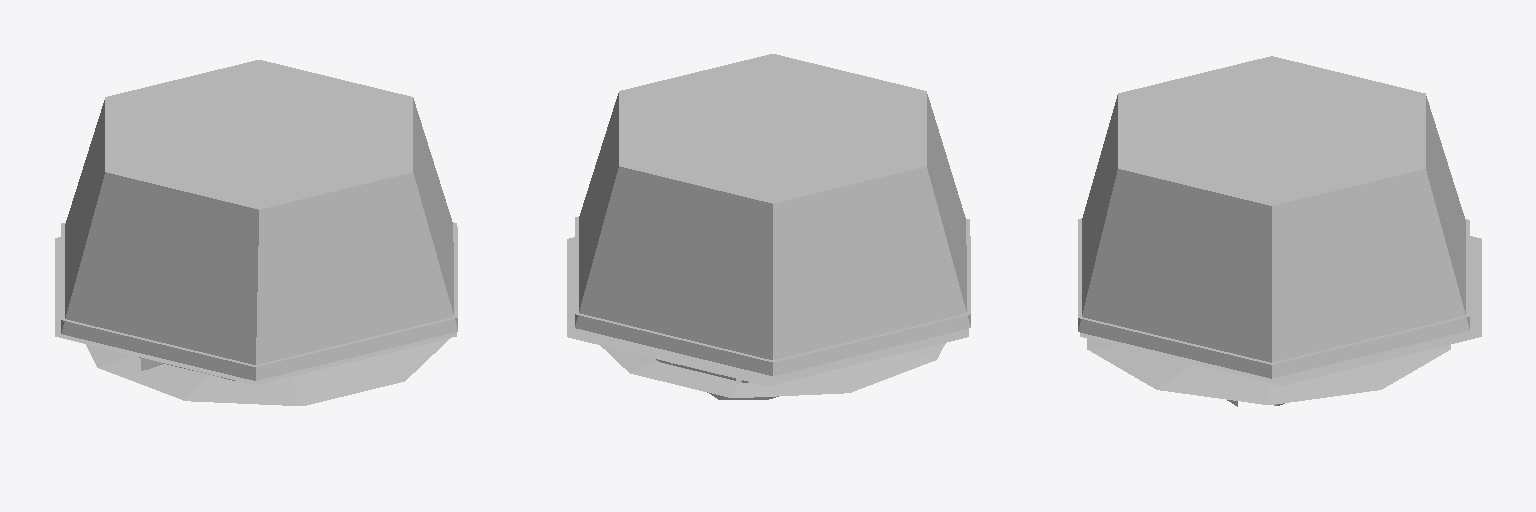
Rendered from level2.obj.
3 renders of one model, left to right at view 1: azimuth 30°, elevation 25°; view 2: azimuth 150°, elevation 25°; view 3: azimuth 270°, elevation 25°, orthographic.
Parts seen in each view (by area): view 1: polygon12, polygon17, polygon15; view 2: polygon12, polygon17, polygon15; view 3: polygon12, polygon17, polygon15.
Part boxes in pixels (bbox=[...]): polygon12: bbox=[61, 60, 457, 380]; polygon17: bbox=[86, 338, 449, 405]; polygon15: bbox=[55, 222, 457, 385]; polygon12: bbox=[575, 54, 970, 375]; polygon17: bbox=[600, 343, 945, 397]; polygon15: bbox=[567, 217, 970, 385]; polygon12: bbox=[1078, 56, 1469, 378]; polygon17: bbox=[1087, 339, 1450, 404]; polygon15: bbox=[1078, 218, 1481, 385].
Bounding box in the file's own units: 173 × 102 × 151.